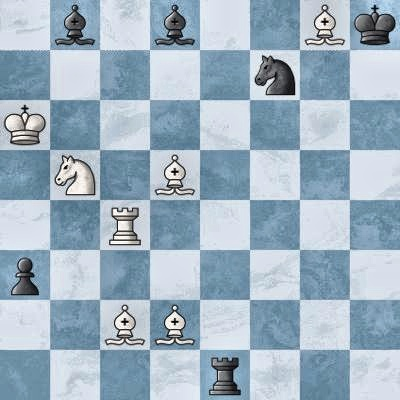black-bishop: (50, 0, 100, 50), (150, 0, 200, 50)
black-king: (350, 0, 400, 50)
black-knight: (250, 50, 300, 100)
black-pawn: (0, 250, 50, 300)
black-rook: (200, 350, 250, 400)
white-bishop: (300, 0, 350, 50), (150, 150, 200, 200), (100, 300, 150, 350), (150, 300, 200, 350)
white-king: (0, 100, 50, 150)
white-knight: (50, 150, 100, 200)
white-rook: (100, 200, 150, 250)
